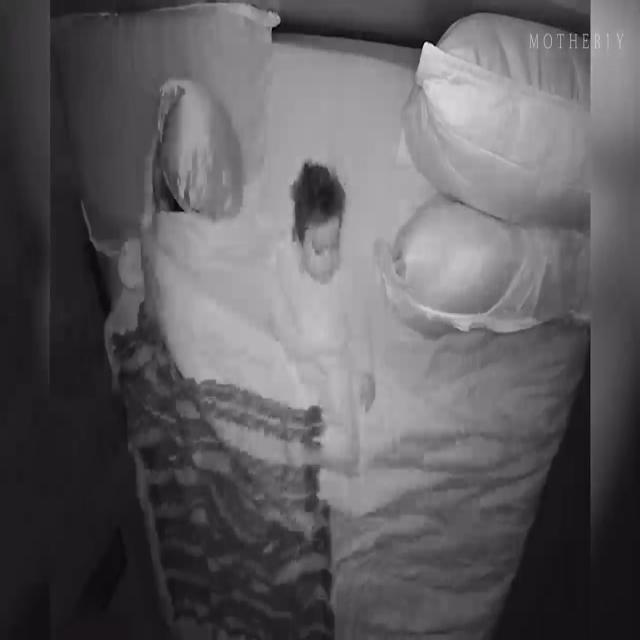baby: (270, 162, 375, 481)
